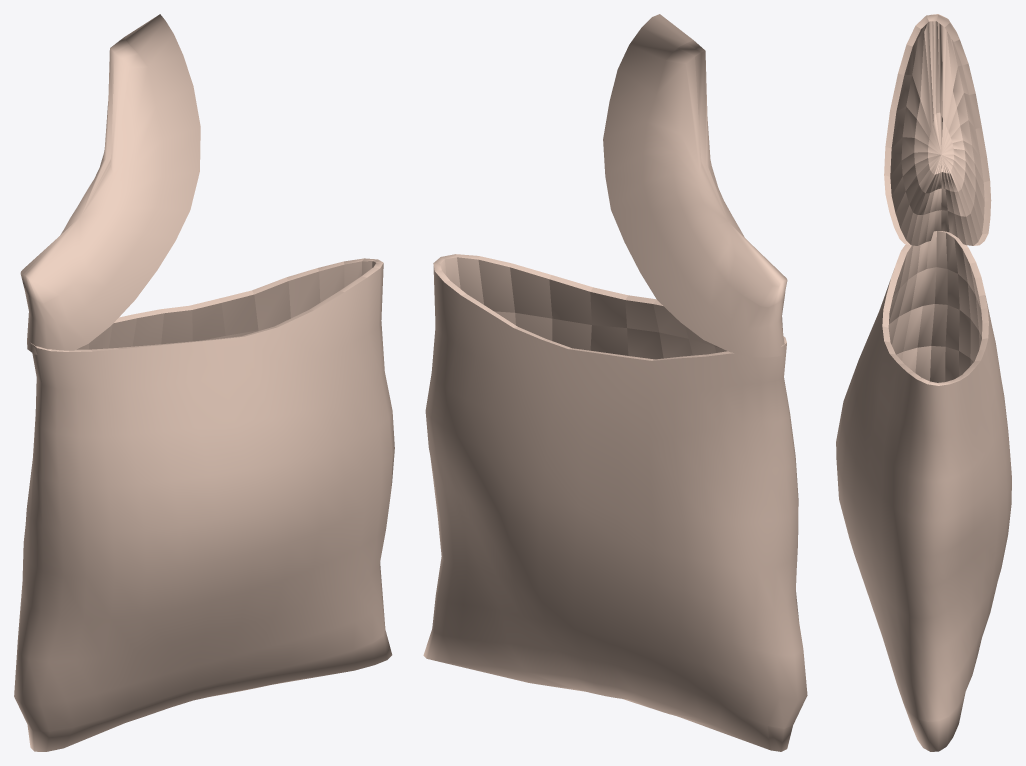
Rendered from Kesica.fbx.
3 views of the same model, side by side, from view 1: azimuth 30°, elevation 25°; view 2: azimuth 150°, elevation 25°; view 3: azimuth 270°, elevation 25° (orthographic). The views are drawn at different scales.
Parts seen in each view (by area): view 1: Sphere, Sphere.001; view 2: Sphere, Sphere.001; view 3: Sphere, Sphere.001.
Boxes of the visible parts, box(x1,y1,x2,y2) form: Sphere: box(14, 258, 394, 751); Sphere.001: box(20, 14, 200, 354); Sphere: box(423, 254, 807, 751); Sphere.001: box(603, 14, 787, 357); Sphere: box(836, 231, 1011, 751); Sphere.001: box(884, 14, 991, 245).
Size of the model in its own units: 1.97 by 3.53 by 0.8746.
